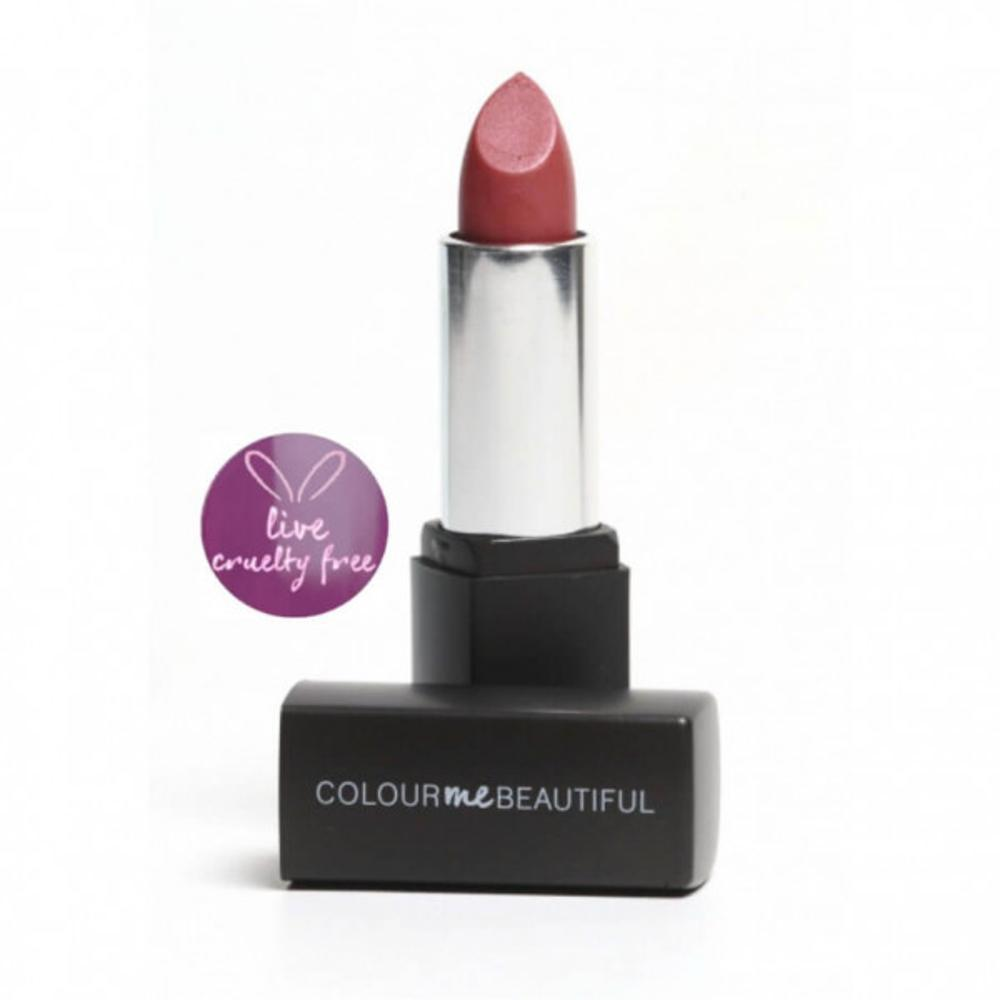lipstick: (374, 48, 652, 713)
